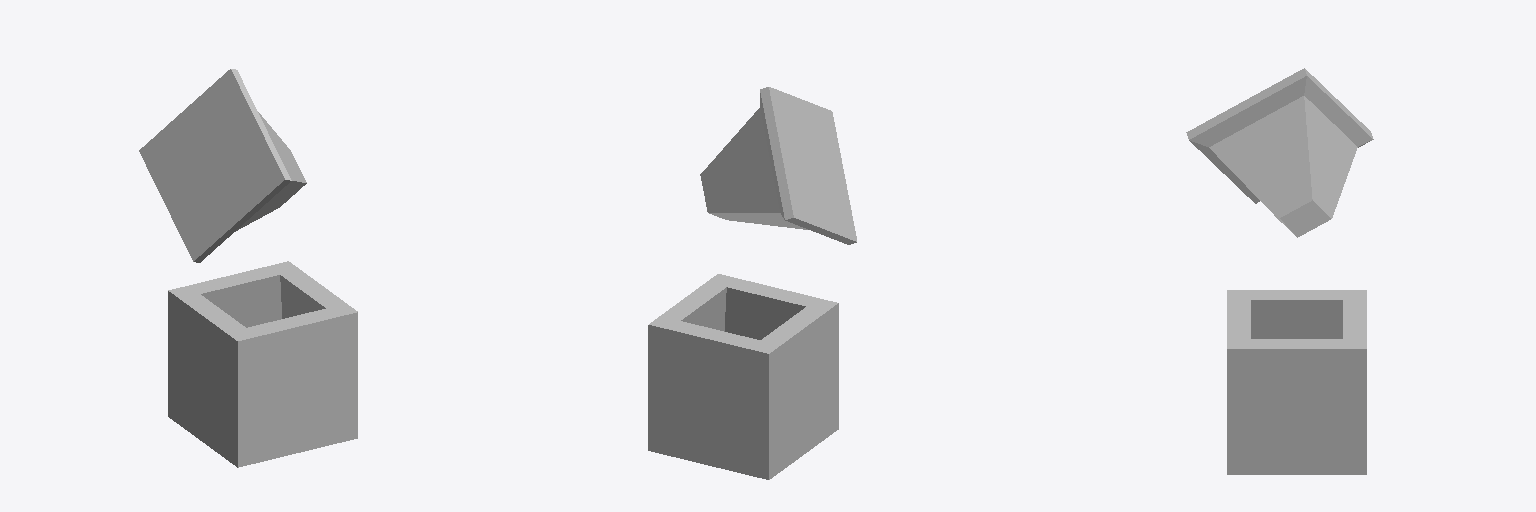
The model's file is AnimatedBox_000119.obj.
The picture shows the model from 3 angles: view 1: azimuth 30°, elevation 25°; view 2: azimuth 150°, elevation 25°; view 3: azimuth 270°, elevation 25°; orthographic projection.
Visible parts, largest first — view 1: Cube, Cube.001; view 2: Cube, Cube.001; view 3: Cube, Cube.001.
Boxes of the visible parts, box(x1,y1,x2,y2) form: Cube: box(168, 261, 357, 467); Cube.001: box(139, 69, 306, 262); Cube: box(648, 274, 838, 479); Cube.001: box(700, 87, 856, 244); Cube: box(1227, 290, 1366, 474); Cube.001: box(1186, 68, 1373, 237).
Size of the model in its own units: 2.52 by 5.76 by 2.69.